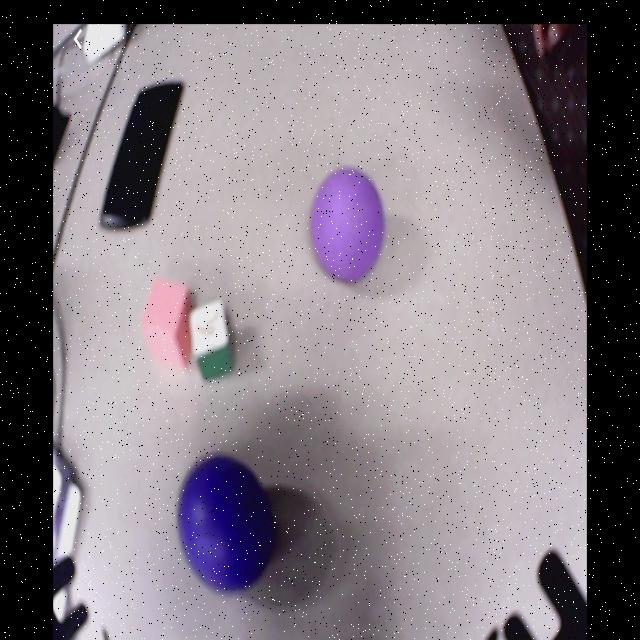ball: (181, 456, 274, 592), (312, 168, 385, 286)
